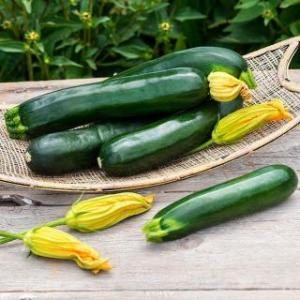zucchini: (7, 66, 225, 136), (155, 160, 295, 236), (98, 102, 224, 178), (22, 117, 157, 177)
